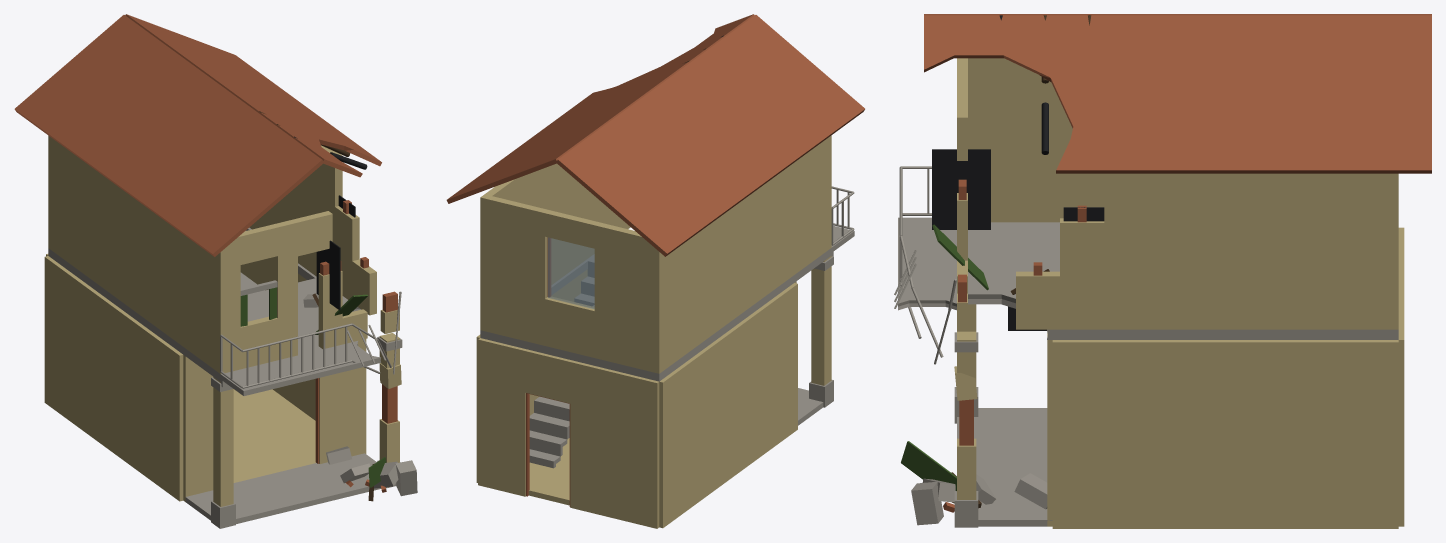
Rendered from battle-damaged-vietnamese-shophouse.glb.
3 renders of one model, left to right at view 1: azimuth 30°, elevation 25°; view 2: azimuth 150°, elevation 25°; view 3: azimuth 270°, elevation 25°, orthographic. The views are drawn at different scales.
Visible parts, largest first — view 1: Mesh_RoofSlopeLeft, Mesh_GroundFloor_WallRight, Mesh_RightWallSolid, Mesh_RoofSlopeRight, Mesh_GroundFloor_Floor, Mesh_Sidewalk, Mesh_GroundFloor_WallFront_R, Mesh_GroundFloor_WallFront_L, Mesh_SecondFloorSlab, Mesh_BalconySlab, Mesh_LW_BackSolid, Mesh_FW_RightCorner (+15 smaller); view 2: Mesh_RoofSlopeLeft, Mesh_GroundFloor_WallRight, Mesh_RightWallSolid, Mesh_GroundFloor_WallBack_R, Mesh_BW_LeftPier, Mesh_BW_RightPier, Mesh_RoofSlopeRight, Mesh_GroundFloor_WallBack_L, Mesh_LW_BackSolid, Mesh_SecondFloorSlab, Mesh_BW_Glass, Mesh_BW_WinSill (+8 smaller); view 3: Mesh_RoofSlopeRight, Mesh_GroundFloor_WallLeft, Mesh_LW_BackSolid, Mesh_RightWallSolid, Mesh_SecondFloorSlab, Mesh_Sidewalk, Mesh_LW_Step1_Stucco, Mesh_BalconySlab, Mesh_ScorchFFBlast, Mesh_LW_Step2_Stucco, Mesh_GroundFloor_WallBack_L, Mesh_ShutterBlownOff (+12 smaller).
Part boxes in pixels (box(x1,y1,x2,y2)): Mesh_RoofSlopeLeft: box(14, 15, 323, 256); Mesh_GroundFloor_WallRight: box(44, 256, 183, 501); Mesh_RightWallSolid: box(48, 135, 228, 373); Mesh_RoofSlopeRight: box(125, 14, 381, 177); Mesh_GroundFloor_Floor: box(233, 389, 315, 482); Mesh_Sidewalk: box(185, 453, 381, 523); Mesh_GroundFloor_WallFront_R: box(183, 355, 213, 501); Mesh_GroundFloor_WallFront_L: box(319, 339, 364, 463); Mesh_SecondFloorSlab: box(48, 227, 360, 381); Mesh_BalconySlab: box(220, 341, 380, 395); Mesh_LW_BackSolid: box(249, 145, 342, 276); Mesh_FW_RightCorner: box(216, 236, 240, 373); Mesh_RoofSlopeLeft: box(556, 15, 864, 256); Mesh_GroundFloor_WallRight: box(659, 283, 797, 528); Mesh_RightWallSolid: box(652, 135, 831, 373); Mesh_GroundFloor_WallBack_R: box(570, 360, 659, 528); Mesh_BW_LeftPier: box(480, 194, 548, 345); Mesh_BW_RightPier: box(594, 222, 663, 373); Mesh_RoofSlopeRight: box(446, 14, 754, 203); Mesh_GroundFloor_WallBack_L: box(478, 338, 527, 496); Mesh_LW_BackSolid: box(480, 163, 602, 331); Mesh_SecondFloorSlab: box(480, 248, 831, 381); Mesh_BW_Glass: box(548, 237, 594, 308); Mesh_BW_WinSill: box(545, 296, 594, 357); Mesh_RoofSlopeRight: box(924, 15, 1431, 173); Mesh_GroundFloor_WallLeft: box(1052, 340, 1398, 528); Mesh_LW_BackSolid: box(1104, 173, 1398, 329); Mesh_RightWallSolid: box(968, 58, 1104, 222); Mesh_SecondFloorSlab: box(968, 222, 1398, 339); Mesh_Sidewalk: box(957, 408, 1052, 526); Mesh_LW_Step1_Stucco: box(1060, 218, 1104, 329); Mesh_BalconySlab: box(898, 217, 956, 310); Mesh_ScorchFFBlast: box(932, 149, 990, 229); Mesh_LW_Step2_Stucco: box(1016, 271, 1059, 329); Mesh_GroundFloor_WallBack_L: box(1398, 311, 1404, 526); Mesh_ShutterBlownOff: box(901, 441, 956, 502).
Size of the model in its own units: 4.44 by 6.84 by 7.31.
2 materials, 2 textured.
